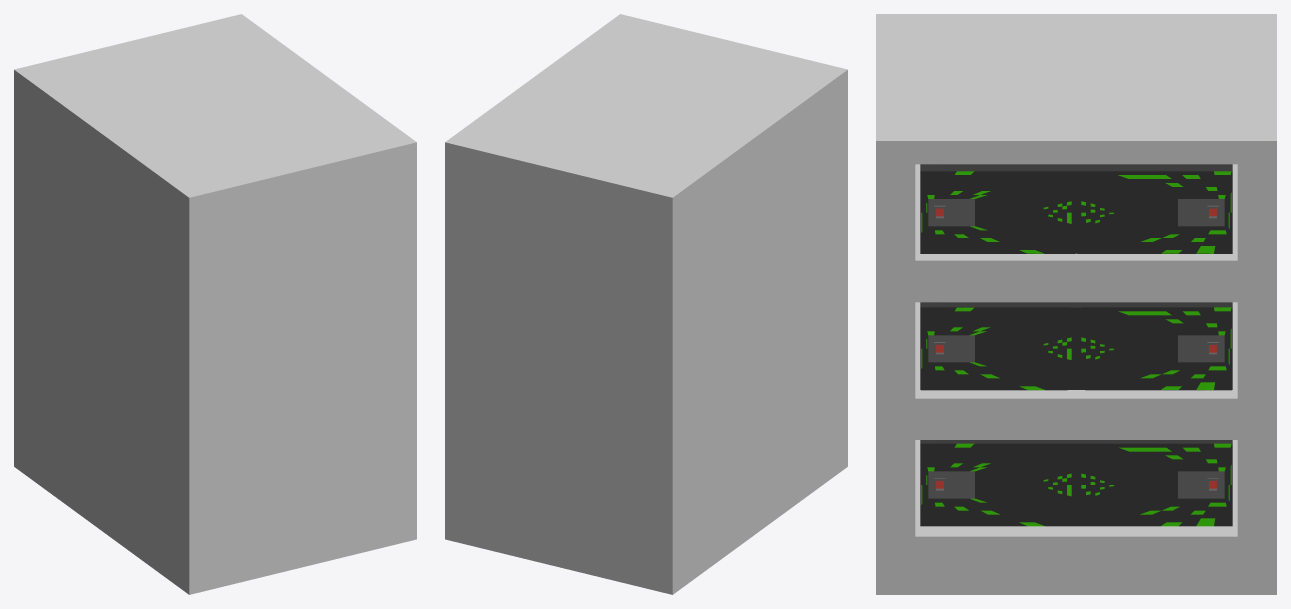
The model's file is ServerMain.fbx.
The picture shows the model from 3 angles, left to right: view 1: azimuth 30°, elevation 25°; view 2: azimuth 150°, elevation 25°; view 3: azimuth 270°, elevation 25°; orthographic projection. The views are drawn at different scales.
Parts seen in each view (by area): view 1: Base; view 2: Base; view 3: Base, ServerCube, ServerCube.001, ServerCube.002.
Boxes of the visible parts, bbox=[...] form: Base: bbox=[14, 14, 416, 594]; Base: bbox=[445, 14, 847, 594]; Base: bbox=[876, 14, 1276, 594]; ServerCube: bbox=[920, 164, 1232, 253]; ServerCube.001: bbox=[920, 302, 1232, 390]; ServerCube.002: bbox=[920, 440, 1232, 526].
Size of the model in its own units: 600 by 1000 by 800.
